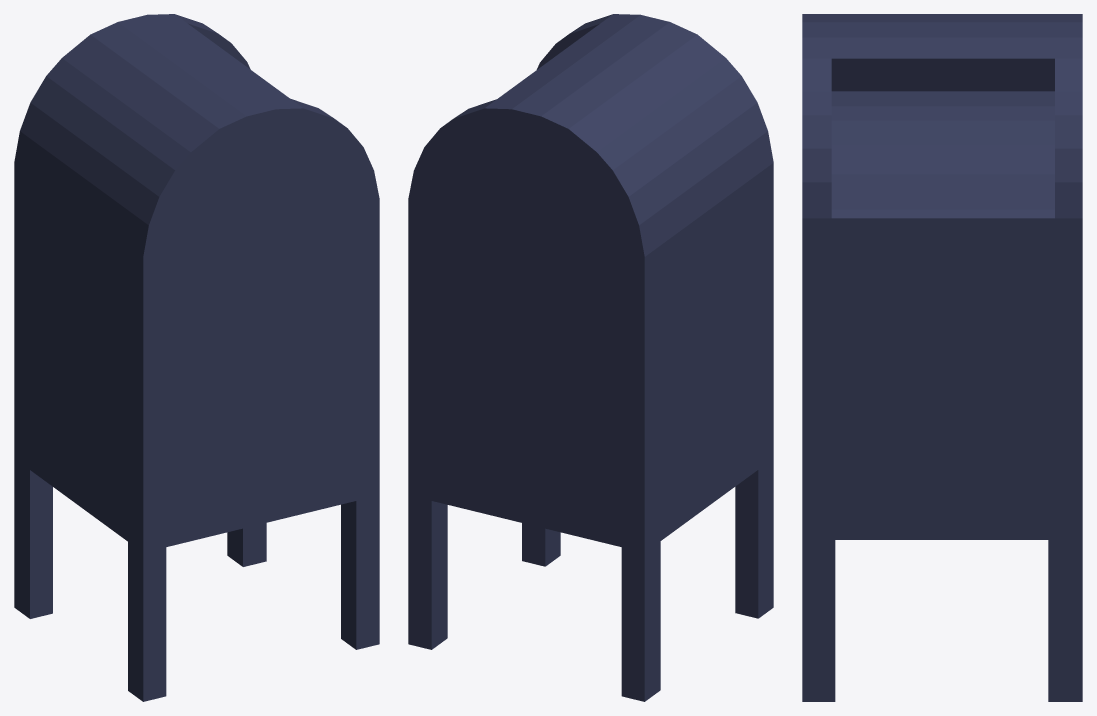
The model's file is 9-5_mailbox.gltf.
The picture shows the model from 3 angles, left to right: view 1: azimuth 30°, elevation 25°; view 2: azimuth 150°, elevation 25°; view 3: azimuth 270°, elevation 25°; orthographic projection. The views are drawn at different scales.
Parts seen in each view (by area): view 1: Cube; view 2: Cube; view 3: Cube.
Boxes of the visible parts, x1,y1,x2,y2 form: Cube: (14, 14, 379, 701); Cube: (408, 14, 773, 701); Cube: (802, 14, 1082, 701).
Bounding box in the file's own units: 159 × 359 × 150.
